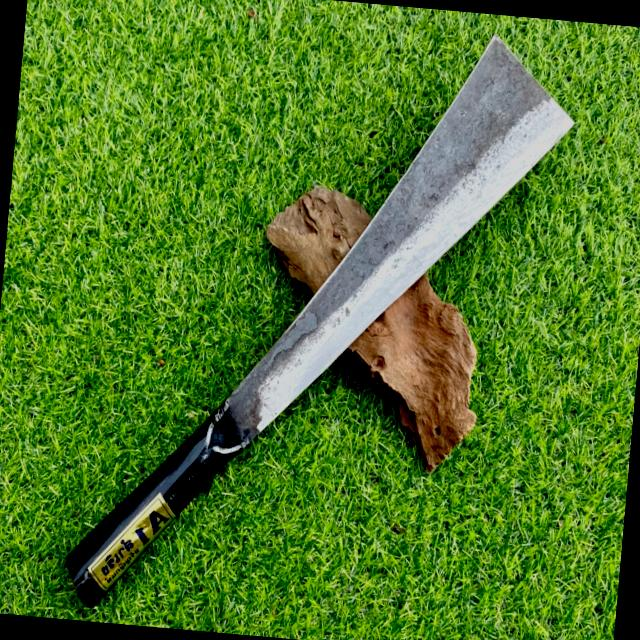eto: (58, 29, 583, 613)
